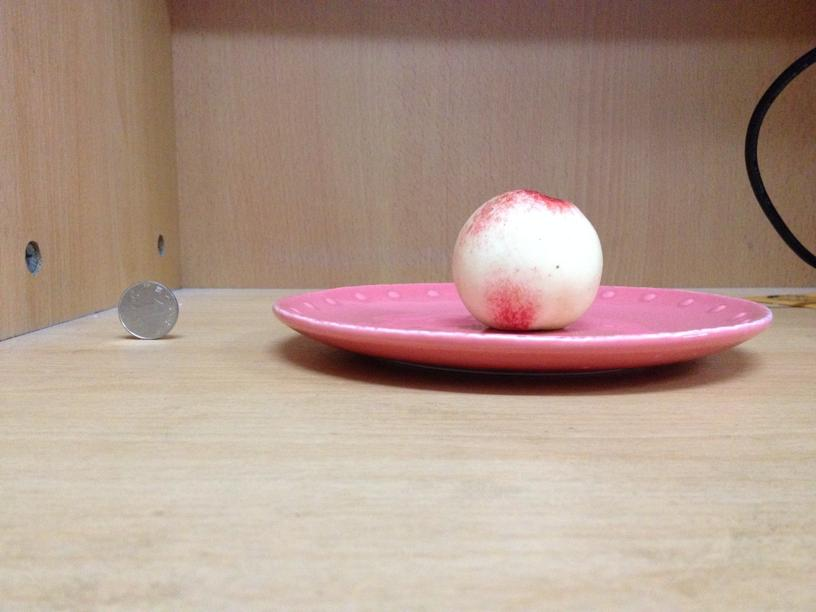coin: (117, 279, 180, 340)
peach: (451, 190, 601, 331)
